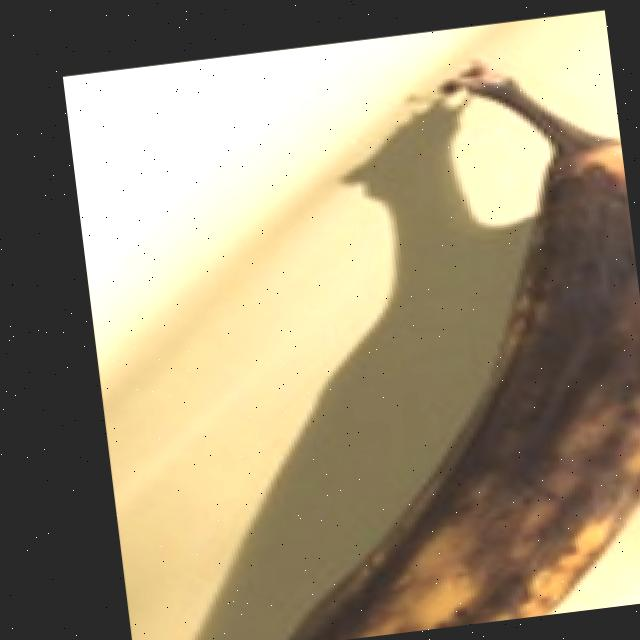Rotten: (172, 45, 640, 640)
